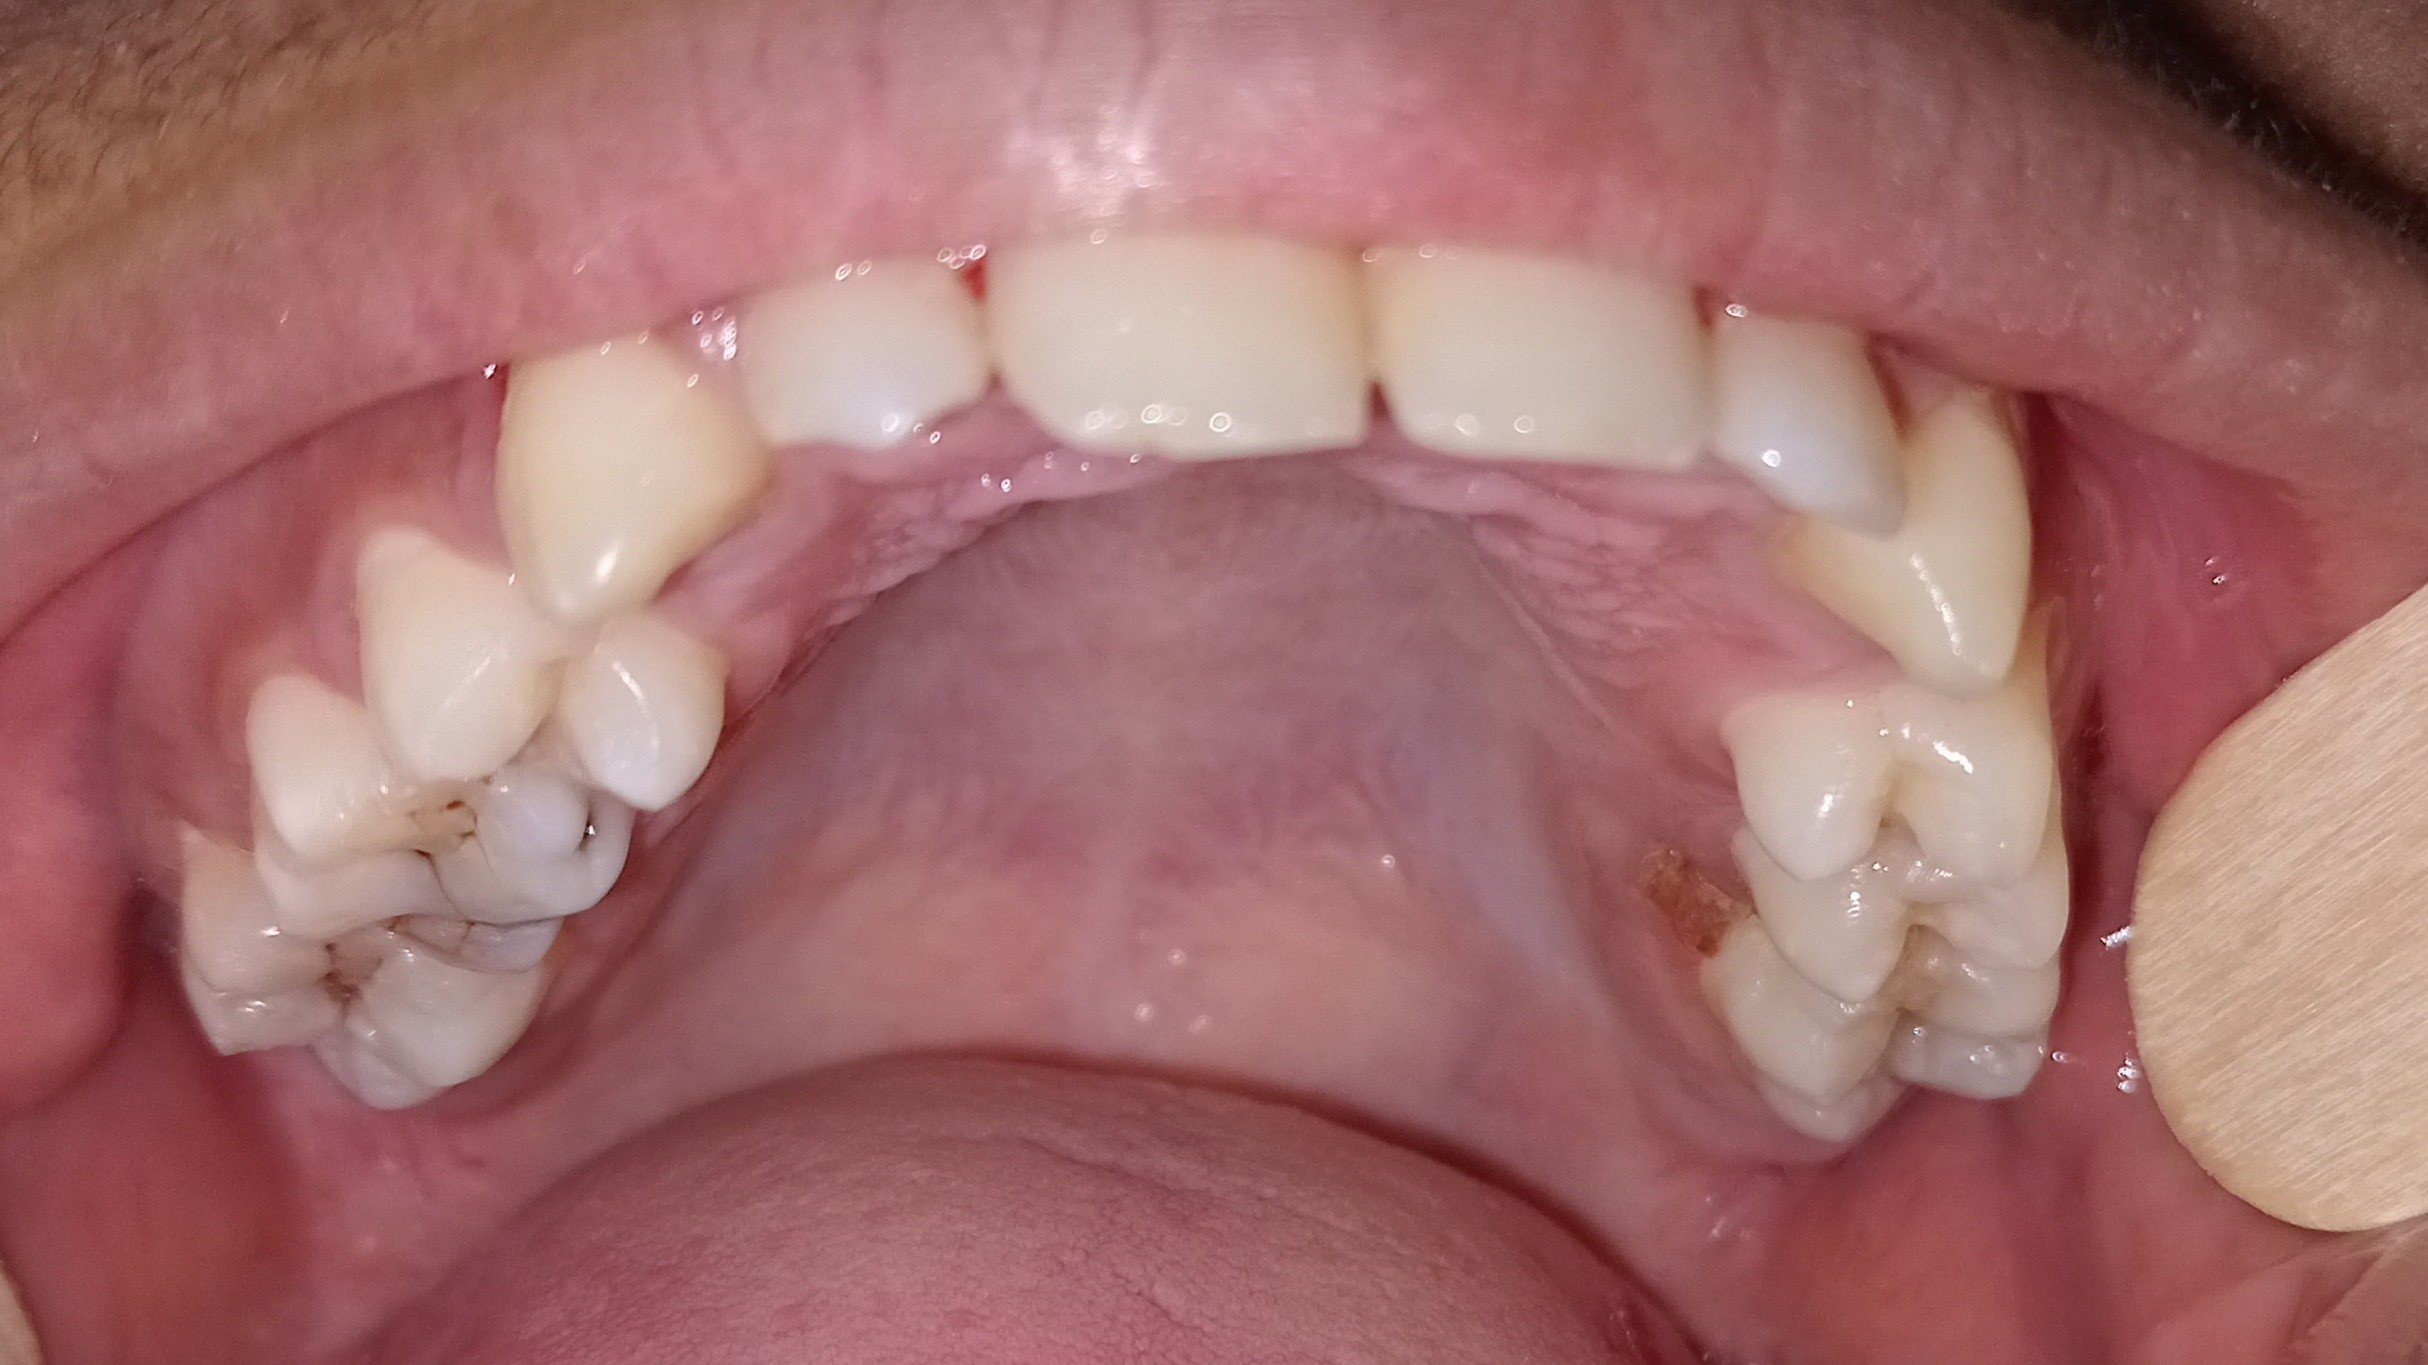D: (208, 667, 665, 947), (148, 820, 577, 1111)
